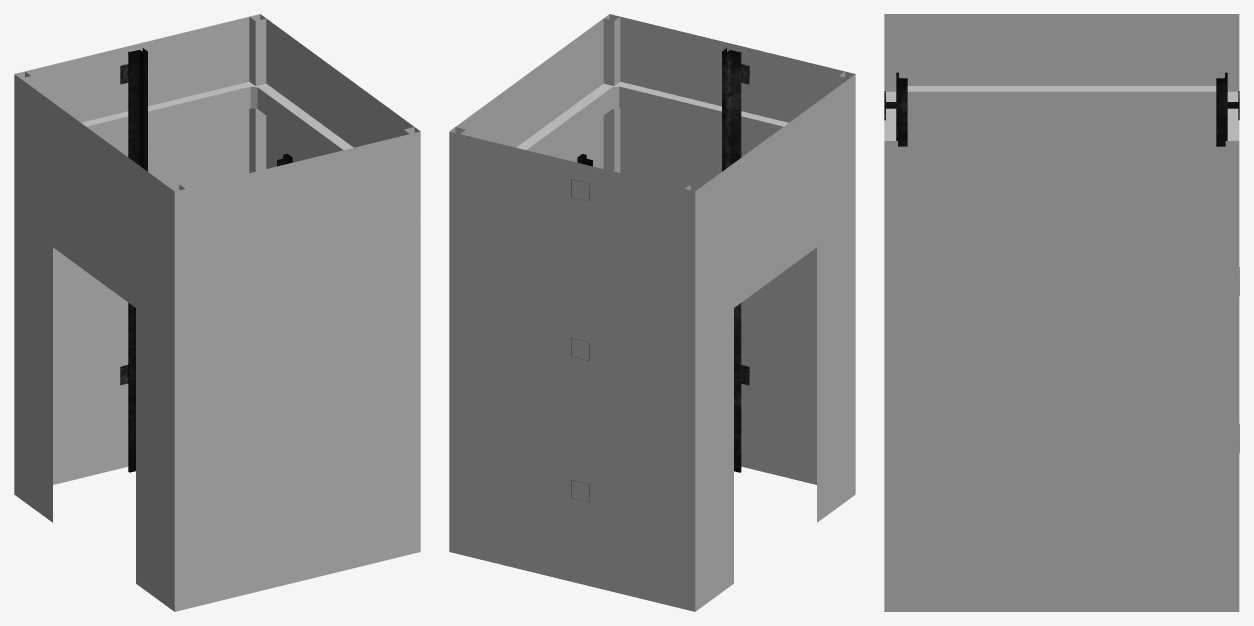
The model's file is Lift_Shaft.fbx.
3 renders of one model, left to right at view 1: azimuth 30°, elevation 25°; view 2: azimuth 150°, elevation 25°; view 3: azimuth 270°, elevation 25°, orthographic. The views are drawn at different scales.
Visible parts, largest first — view 1: Lift_Shaft; view 2: Lift_Shaft; view 3: Lift_Shaft.
Part boxes in pixels (x1,y1,x2,y2): Lift_Shaft: (14,14,420,611); Lift_Shaft: (449,14,855,611); Lift_Shaft: (884,14,1239,611).
Bounding box in the file's own units: 3.09 × 5.04 × 3.49.
